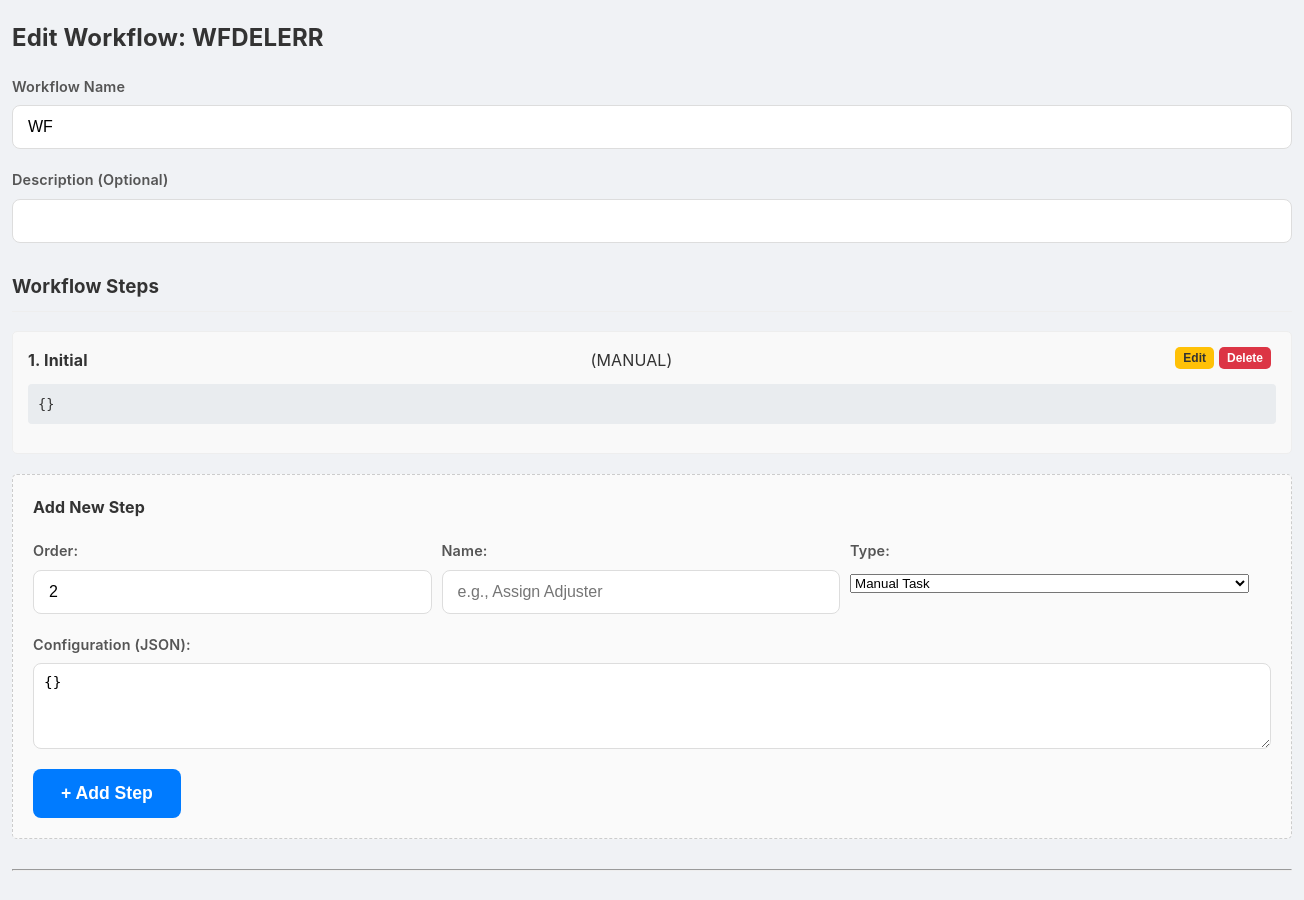
Test: WorkflowEditor › handles failed step delete gracefully
What coordinates should you click on to do the following:
click the button "Delete"
I would click on:
 (1245, 358)
Its box is [1219,347,1271,369].
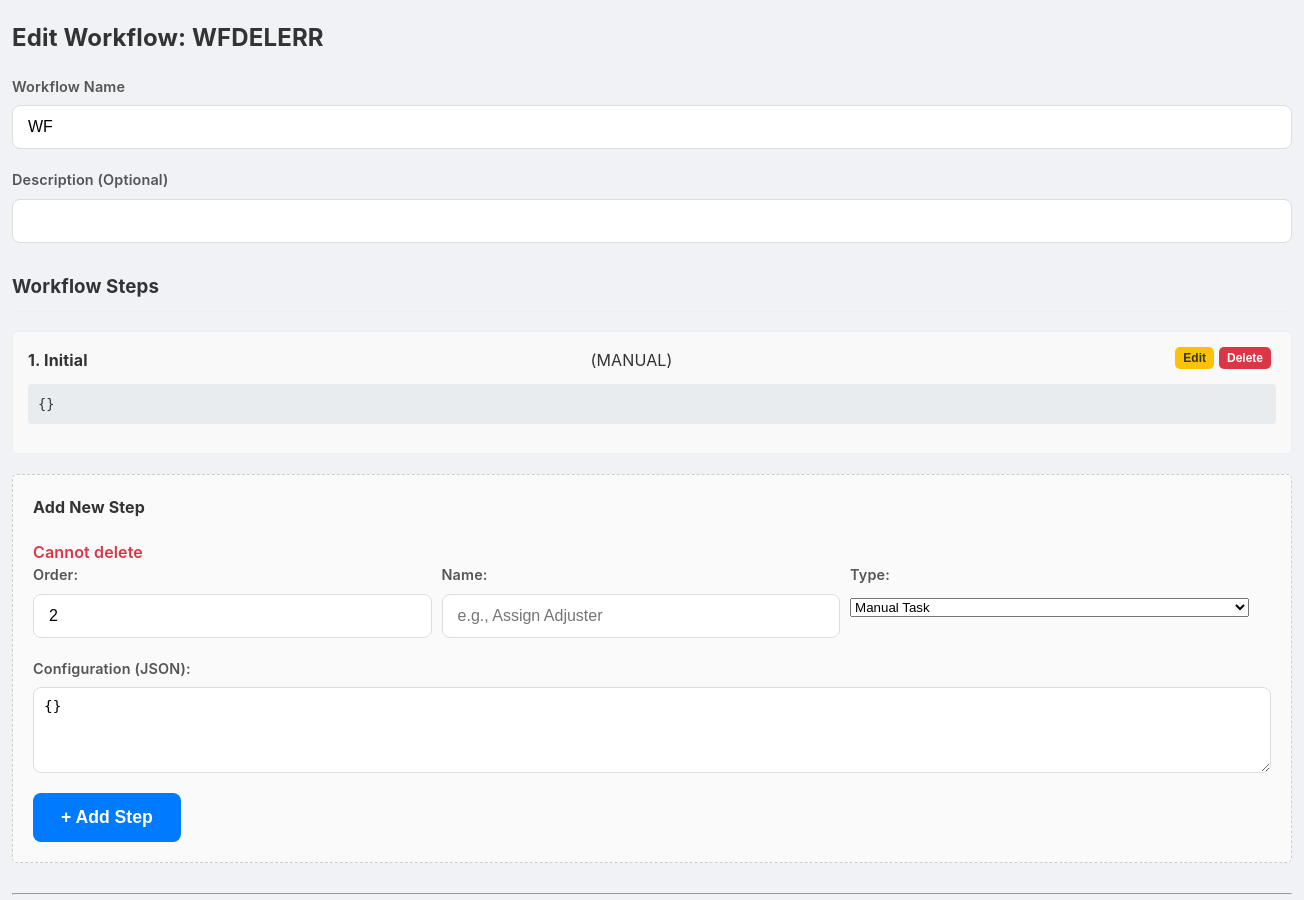
Check: the text "Cannot delete" is shown, box [33,542,143,562]
